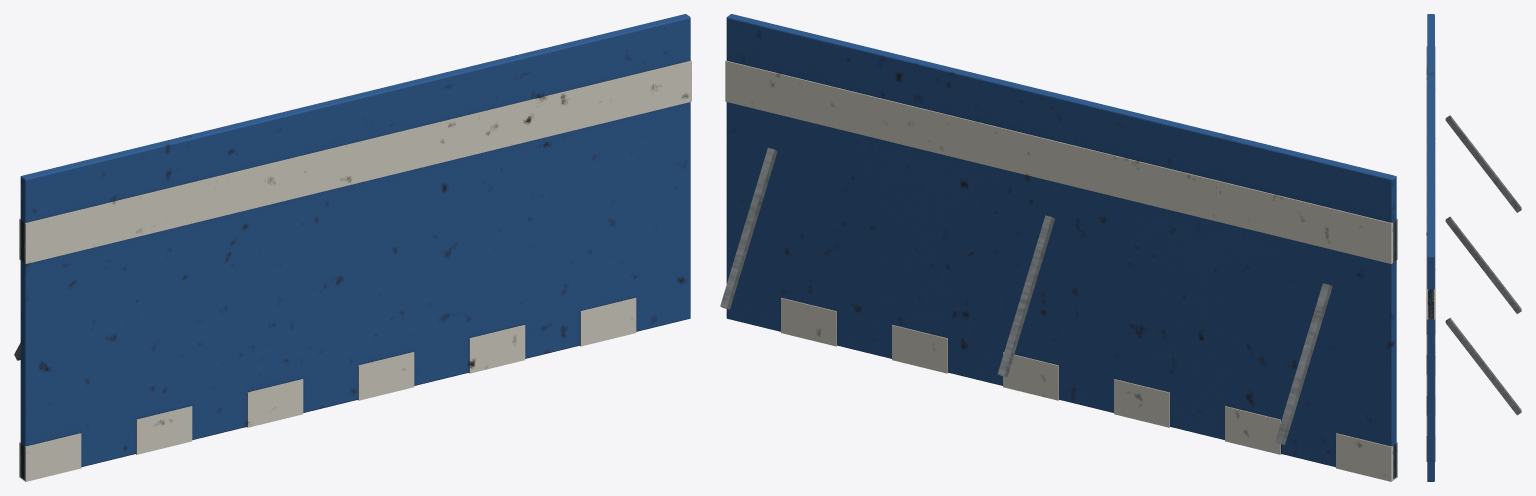
The model's file is city_hoarding.glb.
3 renders of one model, left to right at view 1: azimuth 30°, elevation 25°; view 2: azimuth 150°, elevation 25°; view 3: azimuth 270°, elevation 25°, orthographic. The views are drawn at different scales.
Parts seen in each view (by area): view 1: city_hoarding; view 2: city_hoarding; view 3: city_hoarding.
Part boxes in pixels (x1,y1,x2,y2): city_hoarding: [14, 14, 691, 481]; city_hoarding: [720, 14, 1397, 481]; city_hoarding: [1426, 14, 1521, 481].
Size of the model in its own units: 6 by 2.6 by 0.9974.
Materials: 3 (3 with a texture image).
